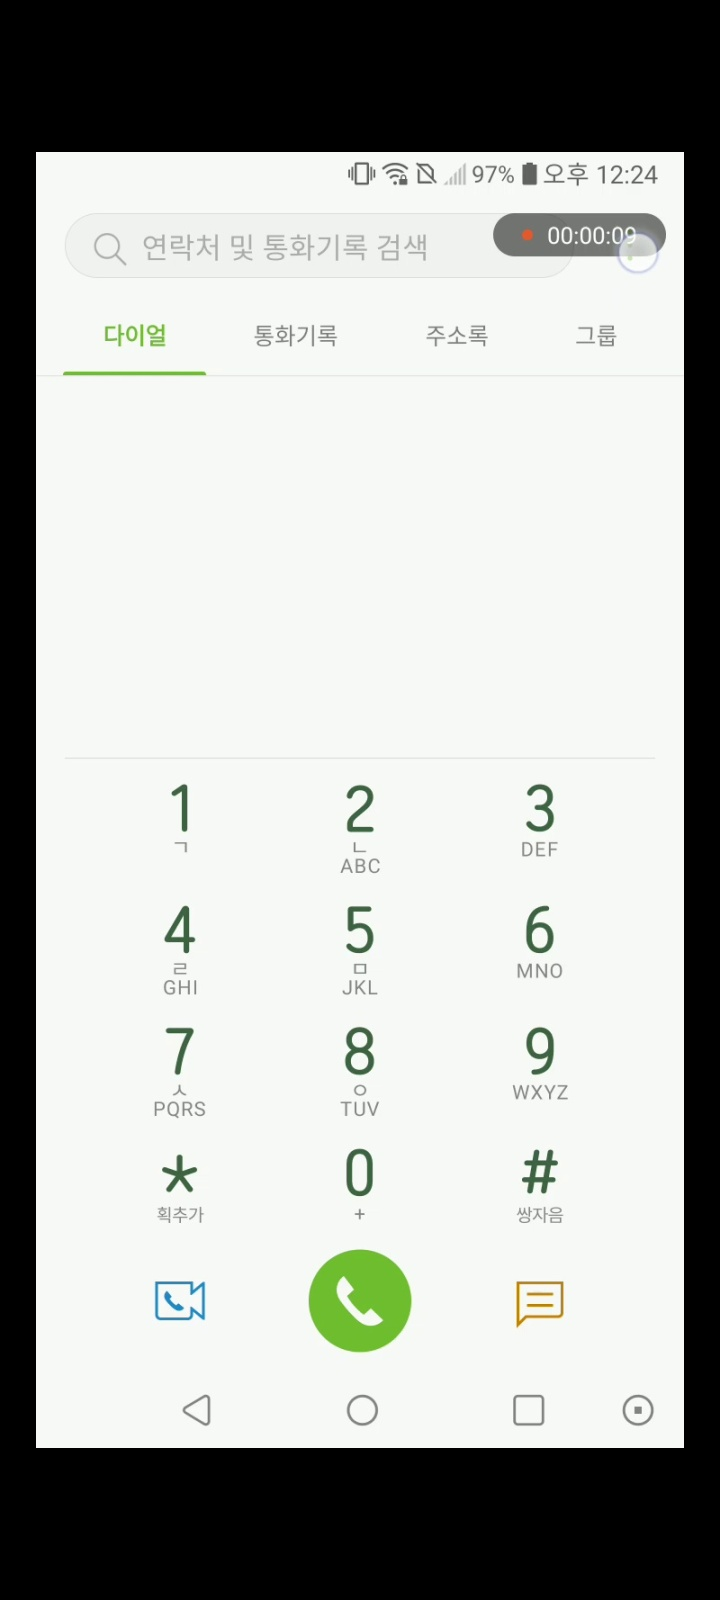Cursor: (615, 231, 660, 277)
